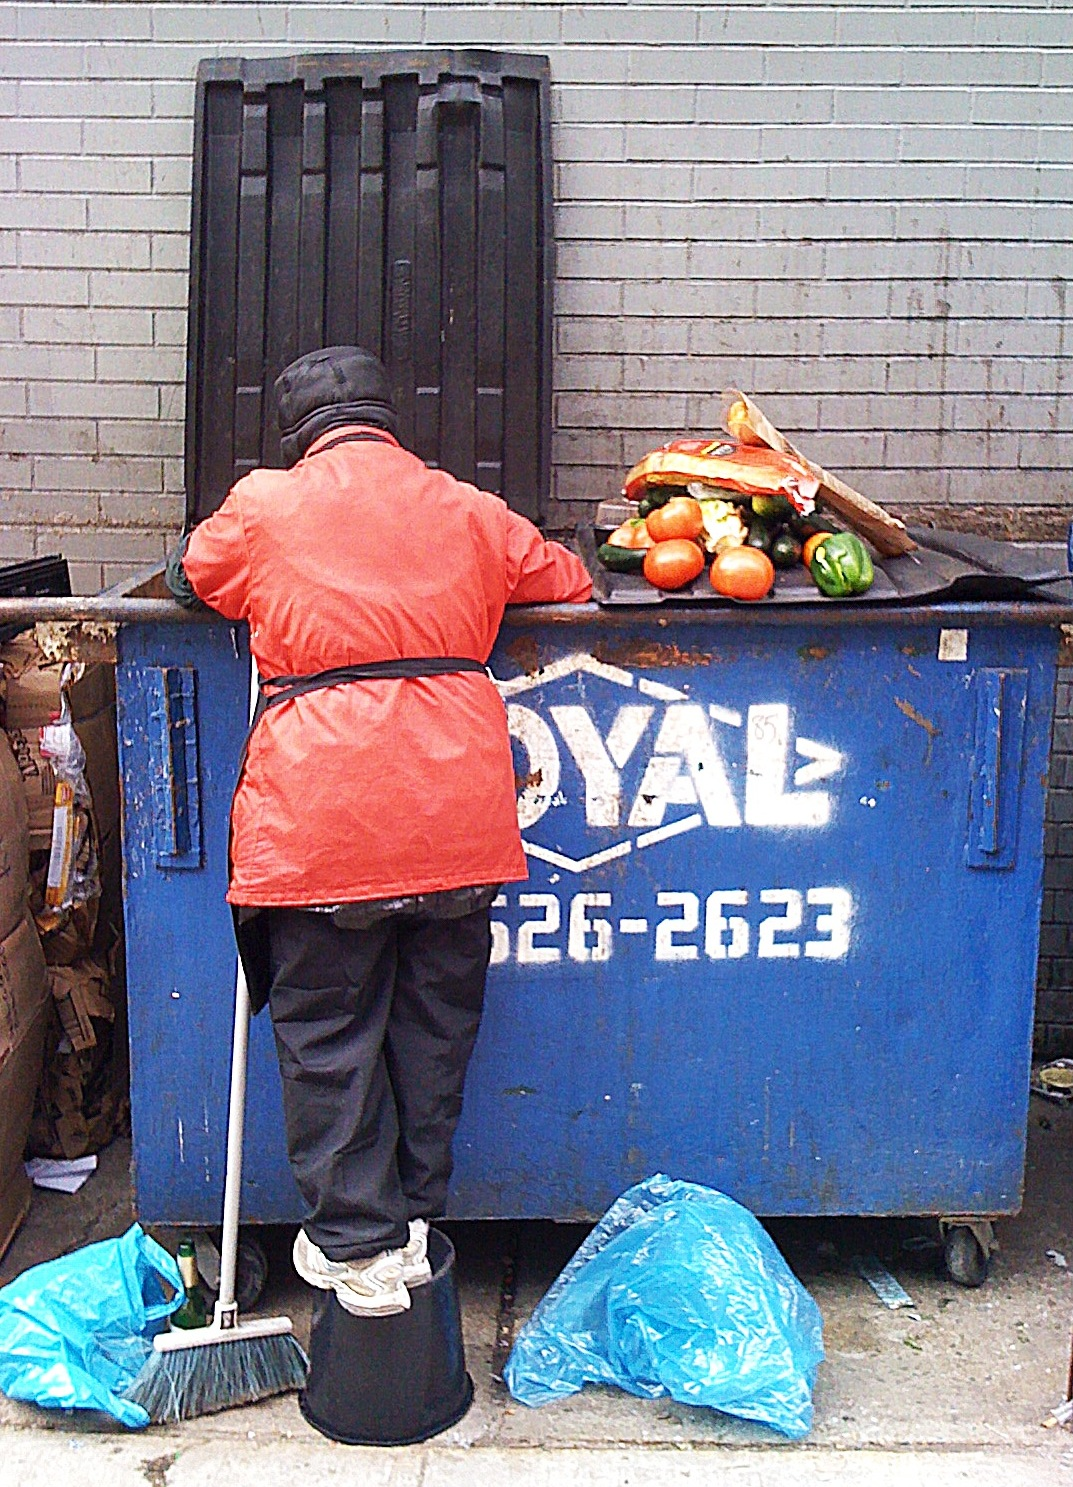Dumpster: (91, 40, 1071, 1297)
Person: (142, 338, 609, 1324)
